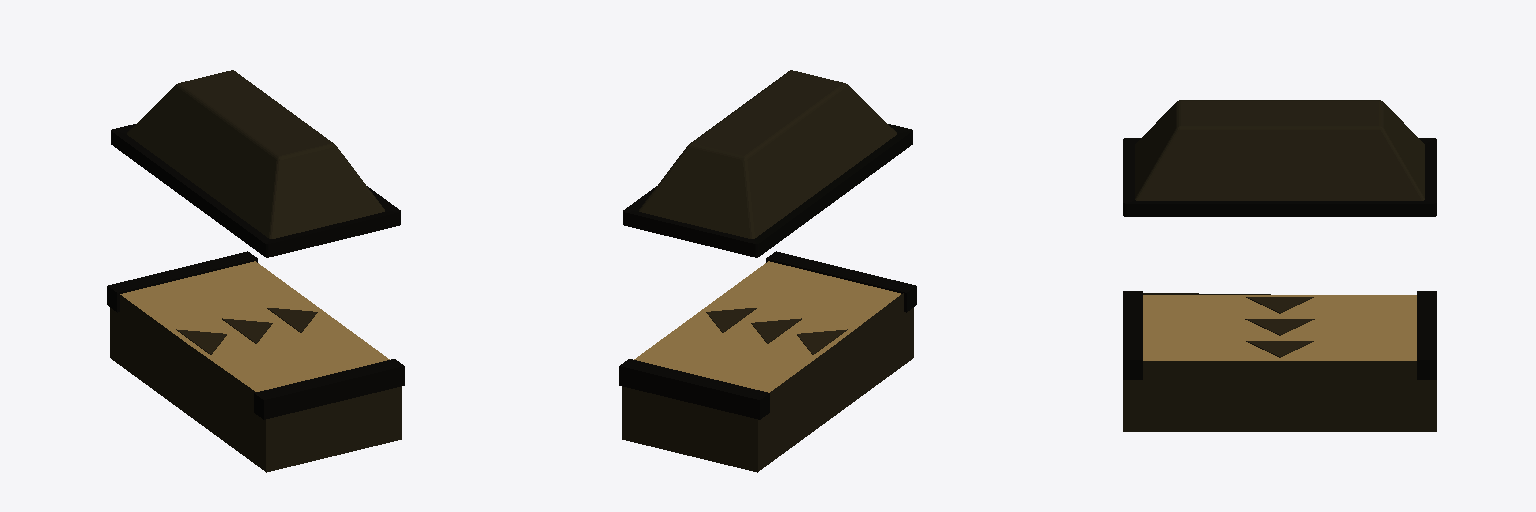
Rendered from estacionE.obj.
3 views of the same model, side by side, from view 1: azimuth 30°, elevation 25°; view 2: azimuth 150°, elevation 25°; view 3: azimuth 270°, elevation 25° (orthographic).
Visible parts, largest first — view 1: Cube.002_Cube.003; view 2: Cube.002_Cube.003; view 3: Cube.002_Cube.003.
Part boxes in pixels (bbox=[...]): Cube.002_Cube.003: bbox=[107, 70, 404, 472]; Cube.002_Cube.003: bbox=[619, 70, 916, 472]; Cube.002_Cube.003: bbox=[1123, 100, 1436, 431].
Bounding box in the file's own units: 2.08 × 4.02 × 4.